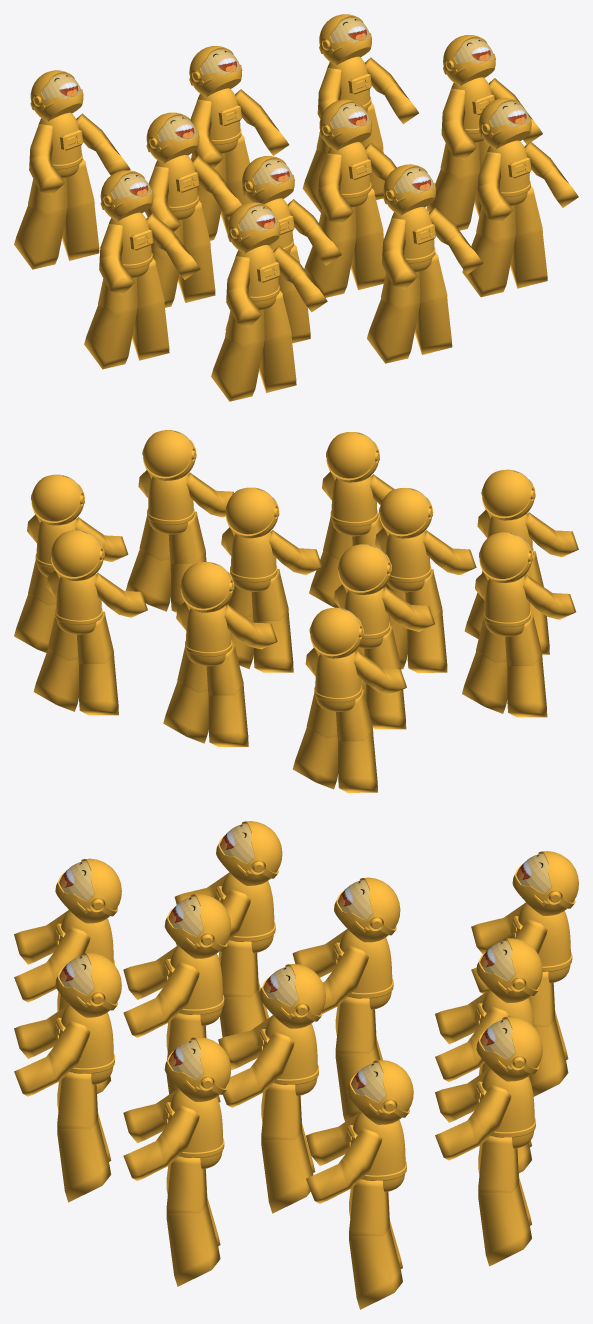
The model's file is asset.glb.
3 views of the same model, one above another, from view 1: azimuth 30°, elevation 25°; view 2: azimuth 150°, elevation 25°; view 3: azimuth 270°, elevation 25° (orthographic). The views are drawn at different scales.
Parts seen in each view (by area): view 1: leg left bottom.011, leg left bottom.009, leg left bottom.007, leg left bottom.006, leg left bottom.005, leg left bottom.008, 0.body, 0.body.002, 0.body.006, 0.body.009, 0.body.004, 0.body.007 (+92 smaller); view 2: 0.body.005, 0.body.004, 0.body.003, 0.body.006, 0.body.007, 0.body.011, 0.body, 0.head.009, 0.head.004, 0.head, 0.head.005, 0.head.008 (+63 smaller); view 3: leg right bottom.012, leg right bottom.009, leg right bottom.004, leg right bottom.006, leg right bottom.001, 0.body.003, 0.body.002, 0.body.011, 0.body.010, 0.body.005, 0.body.008, 0.body (+66 smaller).
Part boxes in pixels (bbox=[...]): leg left bottom.011: bbox=[367, 298, 419, 363]; leg left bottom.009: bbox=[211, 336, 263, 401]; leg left bottom.007: bbox=[84, 304, 136, 369]; leg left bottom.006: bbox=[14, 204, 66, 269]; leg left bottom.005: bbox=[462, 232, 515, 297]; leg left bottom.008: bbox=[426, 169, 478, 230]; 0.body: bbox=[328, 142, 371, 207]; 0.body.002: bbox=[155, 155, 199, 220]; 0.body.006: bbox=[39, 112, 83, 178]; 0.body.009: bbox=[236, 245, 280, 310]; 0.body.004: bbox=[197, 88, 241, 153]; 0.body.007: bbox=[109, 212, 153, 277]; 0.body.005: bbox=[147, 473, 194, 534]; 0.body.004: bbox=[185, 605, 232, 666]; 0.body.003: bbox=[55, 574, 102, 634]; 0.body.006: bbox=[314, 651, 361, 711]; 0.body.007: bbox=[483, 576, 530, 636]; 0.body.011: bbox=[330, 475, 378, 536]; 0.body: bbox=[230, 531, 277, 591]; 0.head.009: bbox=[481, 469, 535, 520]; 0.head.004: bbox=[180, 562, 234, 612]; 0.head: bbox=[225, 487, 279, 538]; 0.head.005: bbox=[142, 430, 196, 480]; 0.head.008: bbox=[31, 474, 84, 525]; leg right bottom.012: bbox=[57, 1119, 111, 1202]; leg right bottom.009: bbox=[349, 1226, 402, 1309]; leg right bottom.004: bbox=[478, 1183, 531, 1266]; leg right bottom.006: bbox=[166, 1203, 220, 1286]; leg right bottom.001: bbox=[261, 1130, 313, 1213]; 0.body.003: bbox=[474, 1068, 535, 1148]; 0.body.002: bbox=[332, 929, 393, 1009]; 0.body.011: bbox=[53, 1004, 114, 1084]; 0.body.010: bbox=[163, 946, 224, 1026]; 0.body.005: bbox=[163, 1089, 224, 1169]; 0.body.008: bbox=[345, 1112, 406, 1192]; 0.body: bbox=[257, 1016, 318, 1096].
Bounding box in the file's own units: 116 × 42.72 × 94.66.
2 materials, 1 textured.
